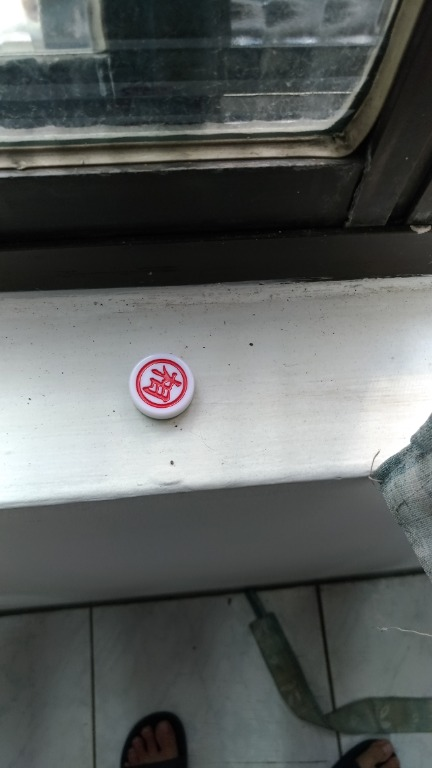r-elephant: (122, 346, 209, 438)
